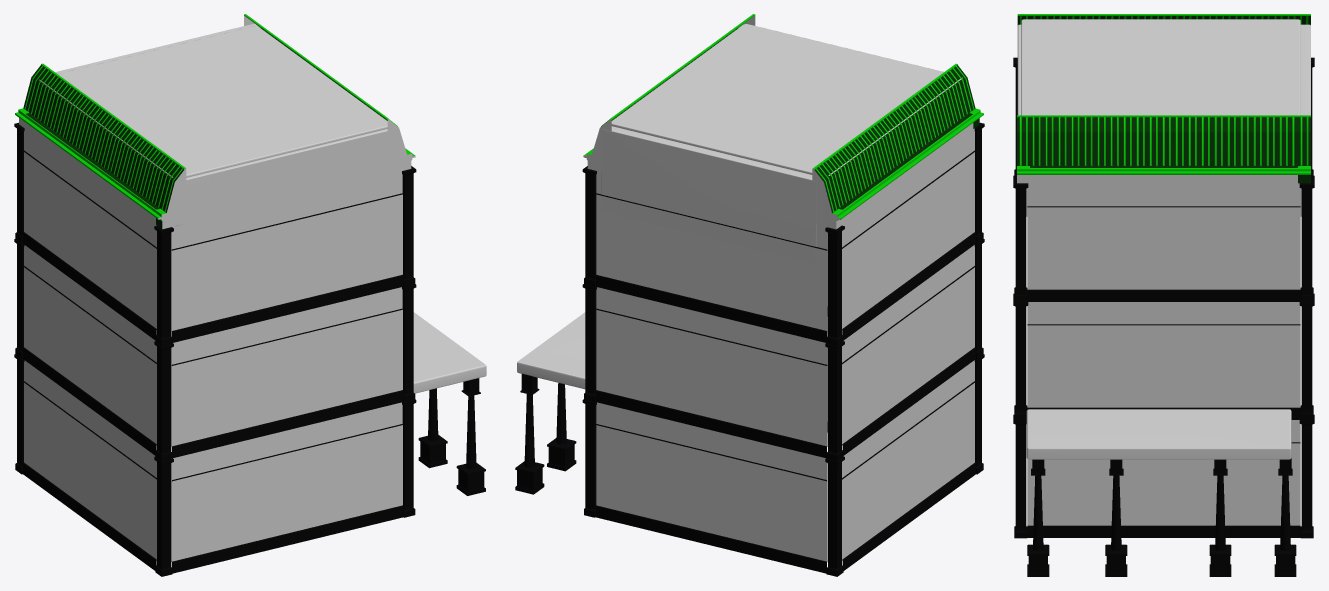
The model's file is Building_1_Musante_Michael.fbx.
3 renders of one model, left to right at view 1: azimuth 30°, elevation 25°; view 2: azimuth 150°, elevation 25°; view 3: azimuth 270°, elevation 25°, orthographic. The views are drawn at different scales.
Visible parts, largest first — view 1: Building_1_Musante_Michael_Wall_Bottom35; view 2: Building_1_Musante_Michael_Wall_Bottom35; view 3: Building_1_Musante_Michael_Wall_Bottom35.
Boxes of the visible parts, x1,y1,x2,y2 form: Building_1_Musante_Michael_Wall_Bottom35: (14, 14, 486, 576); Building_1_Musante_Michael_Wall_Bottom35: (515, 14, 984, 576); Building_1_Musante_Michael_Wall_Bottom35: (1013, 14, 1314, 576).
Size of the model in its own units: 30.28 by 34.77 by 23.13.
